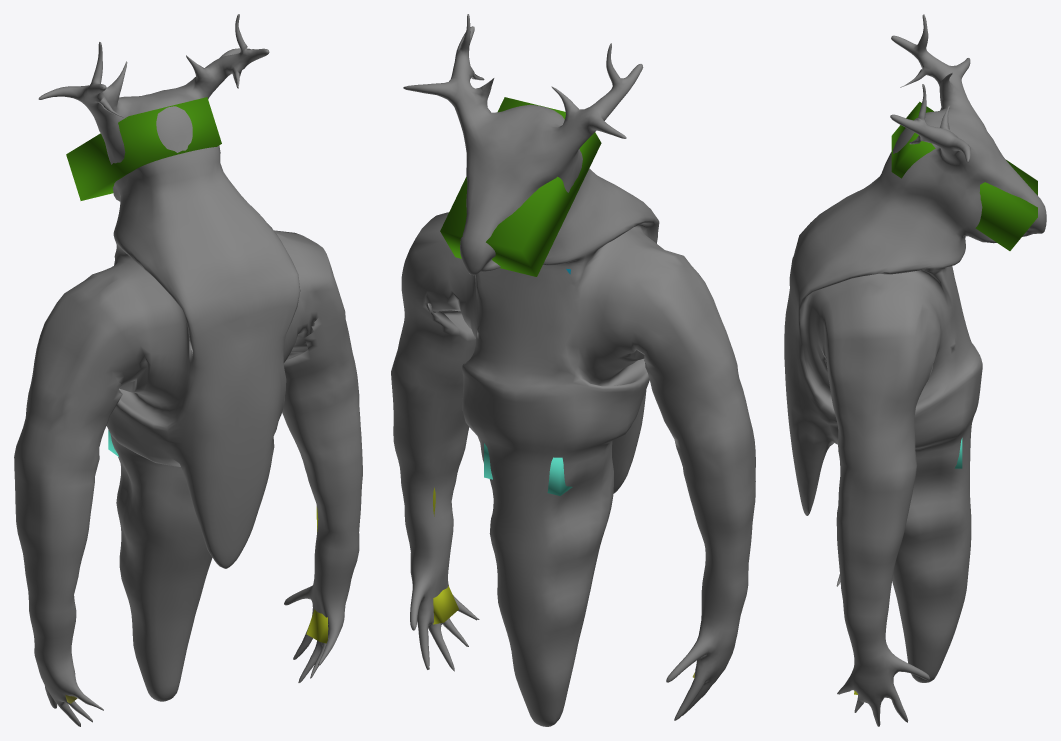
File: SM_monstre_04.obj
3 views of the same model, side by side, from view 1: azimuth 30°, elevation 25°; view 2: azimuth 150°, elevation 25°; view 3: azimuth 270°, elevation 25° (orthographic). The views are drawn at different scales.
Visible parts, largest first — view 1: object 1, CATRigHub003; view 2: object 1, CATRigHub003, CATRigHub001, CATRigRArmPalm; view 3: object 1, CATRigHub003.
Part boxes in pixels (x1,y1,x2,y2): object 1: (14, 14, 362, 726); CATRigHub003: (66, 97, 221, 200); object 1: (391, 14, 755, 726); CATRigHub003: (440, 97, 601, 276); CATRigHub001: (484, 443, 572, 495); CATRigRArmPalm: (433, 585, 458, 624); object 1: (784, 14, 1046, 726); CATRigHub003: (891, 101, 1037, 250).
Size of the model in its own units: 3.09 by 5.93 by 2.21.
